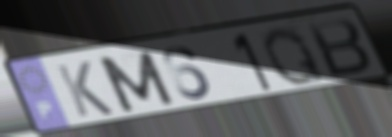1: (231, 31, 275, 93)
6: (162, 44, 214, 102)
B: (303, 16, 375, 80)
K: (52, 59, 117, 120)
M: (94, 49, 179, 116)
Q: (260, 24, 330, 87)
